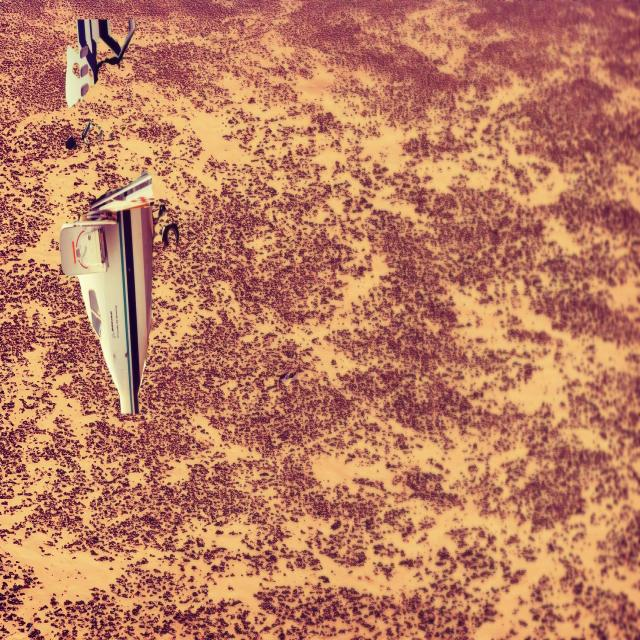airplane: (59, 18, 179, 416)
